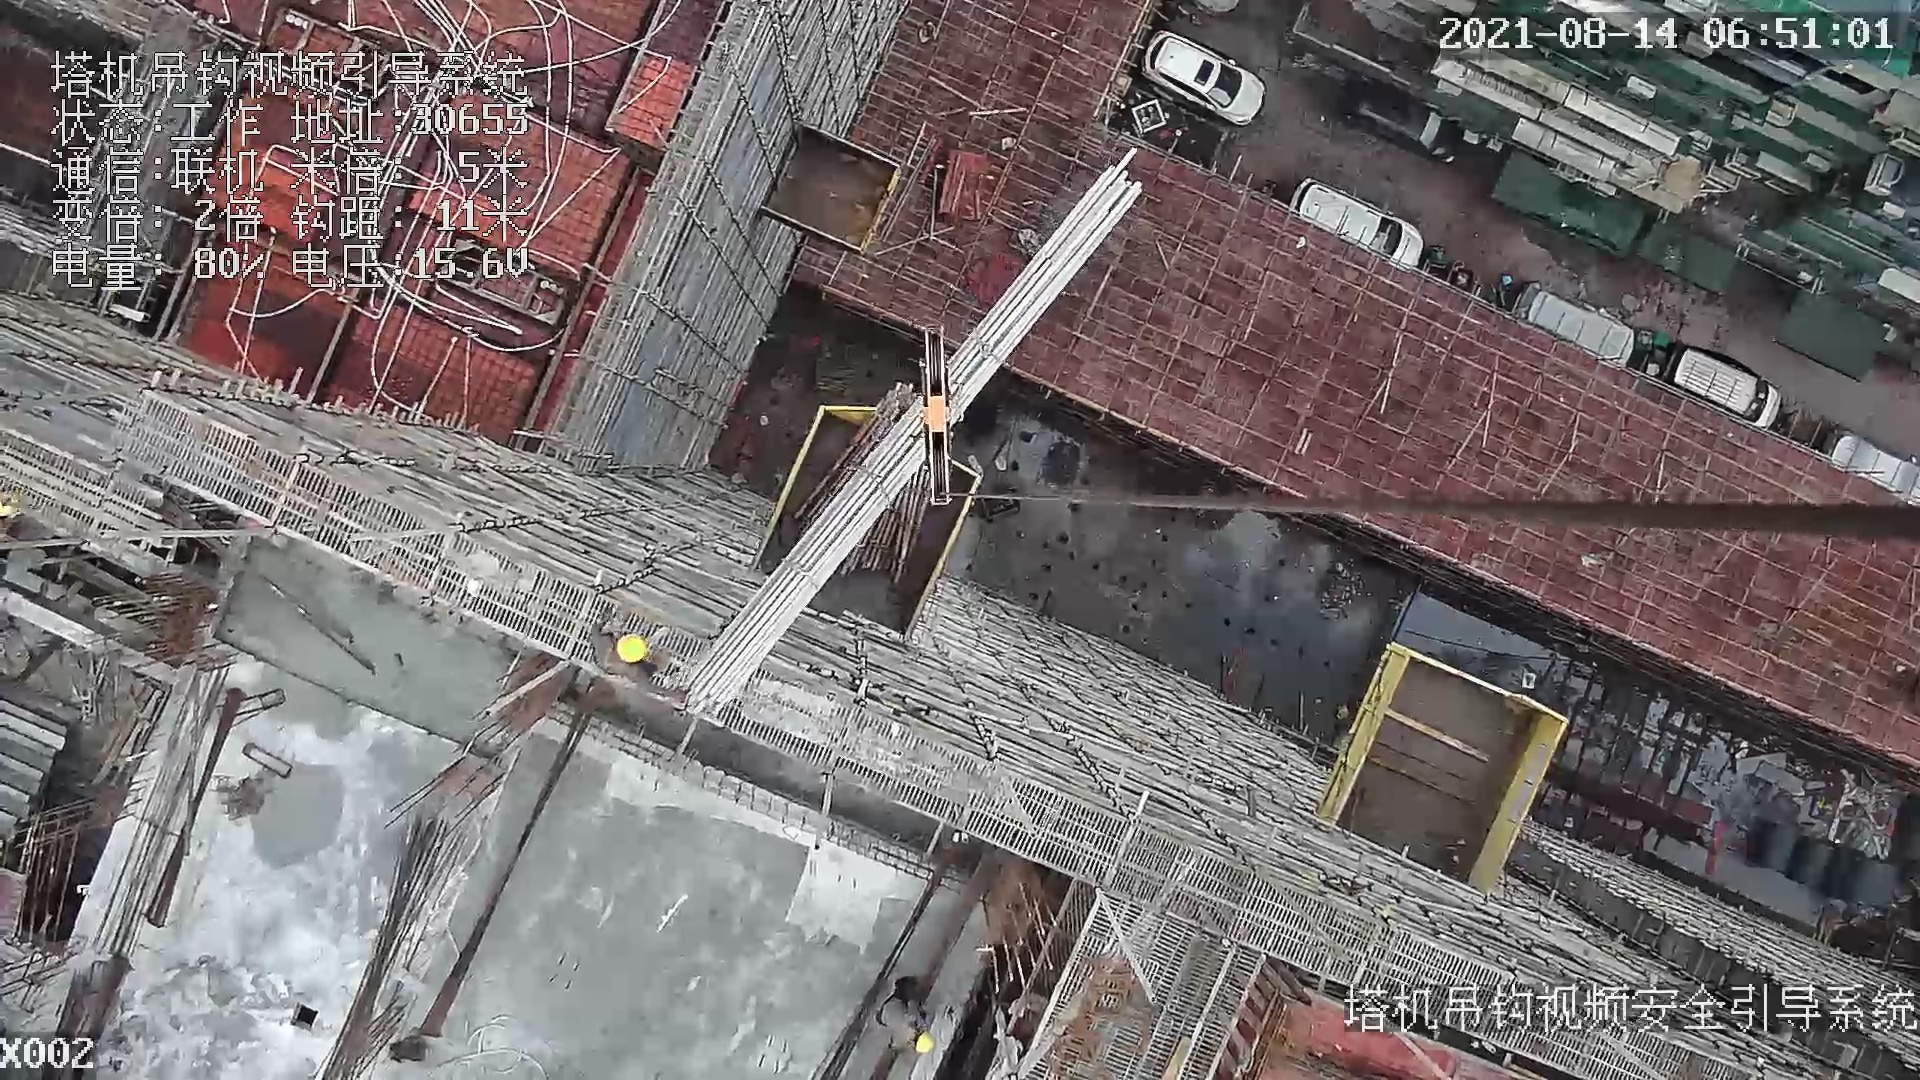helmet: (912, 1021, 954, 1069), (612, 628, 652, 663)
hook: (913, 319, 964, 515)
person: (585, 618, 697, 705), (874, 976, 933, 1054)
